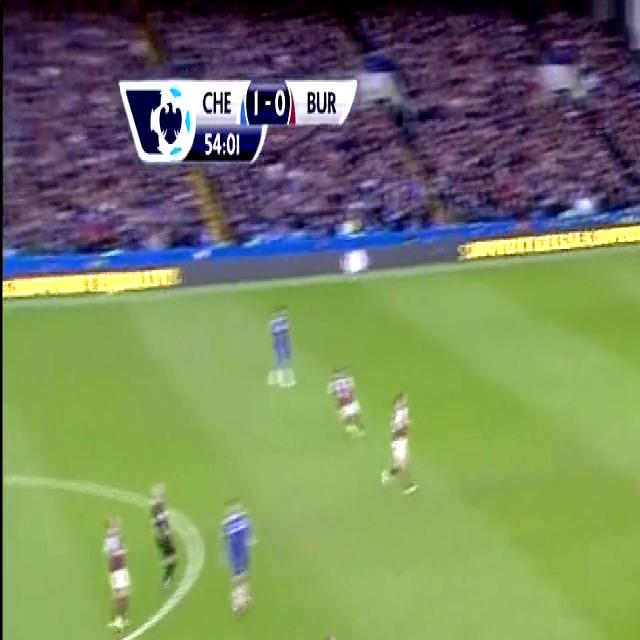referee: (142, 464, 181, 601)
soccer-player: (94, 499, 141, 640), (374, 376, 422, 508), (218, 481, 262, 624), (260, 293, 300, 400), (324, 352, 369, 446), (310, 618, 362, 640), (216, 636, 277, 640)
